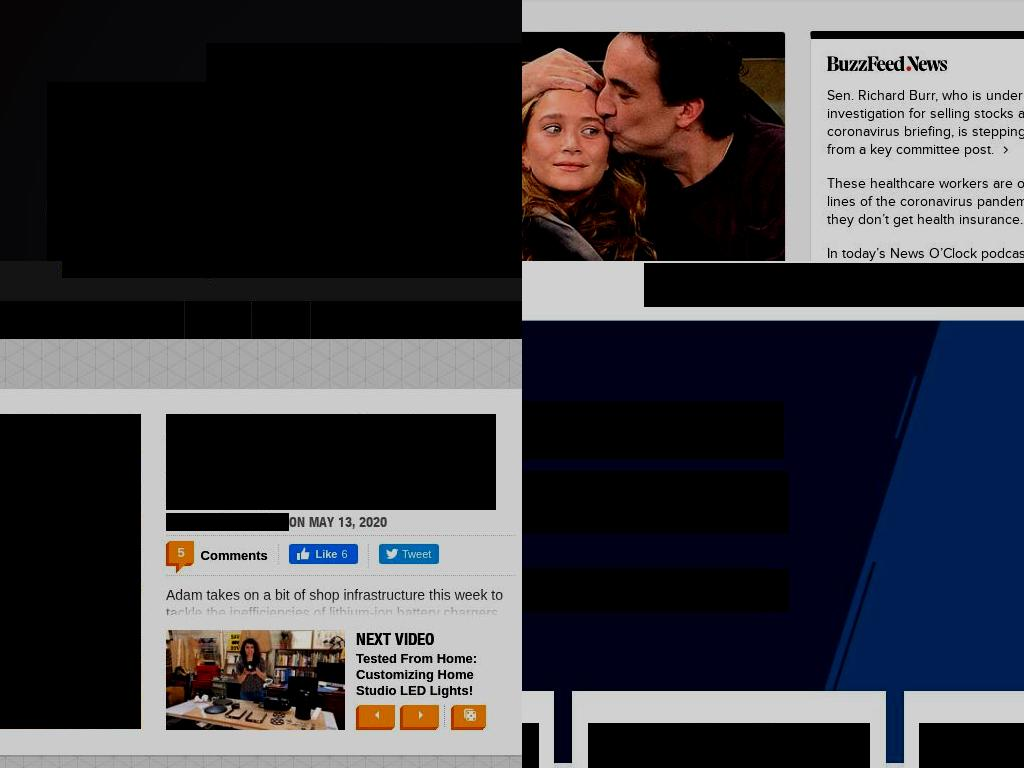button: (166, 414, 496, 510), (588, 723, 870, 768), (644, 263, 836, 307), (62, 261, 522, 278), (356, 651, 516, 699), (836, 263, 969, 307), (969, 263, 1024, 307), (166, 544, 268, 566), (192, 309, 244, 331), (259, 309, 303, 331)
field: (522, 569, 789, 612), (506, 301, 522, 339)
heading: (522, 471, 789, 534), (522, 401, 784, 459), (827, 56, 948, 71)
iframe: (0, 414, 141, 729), (288, 544, 358, 564), (378, 544, 439, 564)
image: (206, 43, 522, 261), (214, 51, 522, 261), (219, 56, 522, 261), (522, 32, 786, 261), (223, 60, 522, 261), (226, 63, 522, 261), (228, 65, 522, 261), (230, 67, 522, 261), (231, 68, 522, 261), (232, 69, 522, 261), (233, 70, 522, 261), (47, 82, 234, 261), (166, 630, 345, 730), (588, 723, 870, 768), (919, 723, 1024, 768), (359, 705, 395, 727), (403, 705, 439, 727), (454, 705, 486, 727), (1002, 146, 1011, 154)
link: (166, 695, 505, 729), (51, 310, 104, 330), (0, 310, 31, 330), (124, 310, 154, 330)
text: (166, 587, 510, 711), (827, 87, 1024, 158), (827, 175, 1024, 228), (205, 261, 522, 278), (211, 713, 461, 729), (356, 630, 516, 648), (62, 261, 205, 278), (166, 513, 289, 531), (289, 513, 387, 531), (197, 548, 268, 563), (169, 541, 194, 563)
